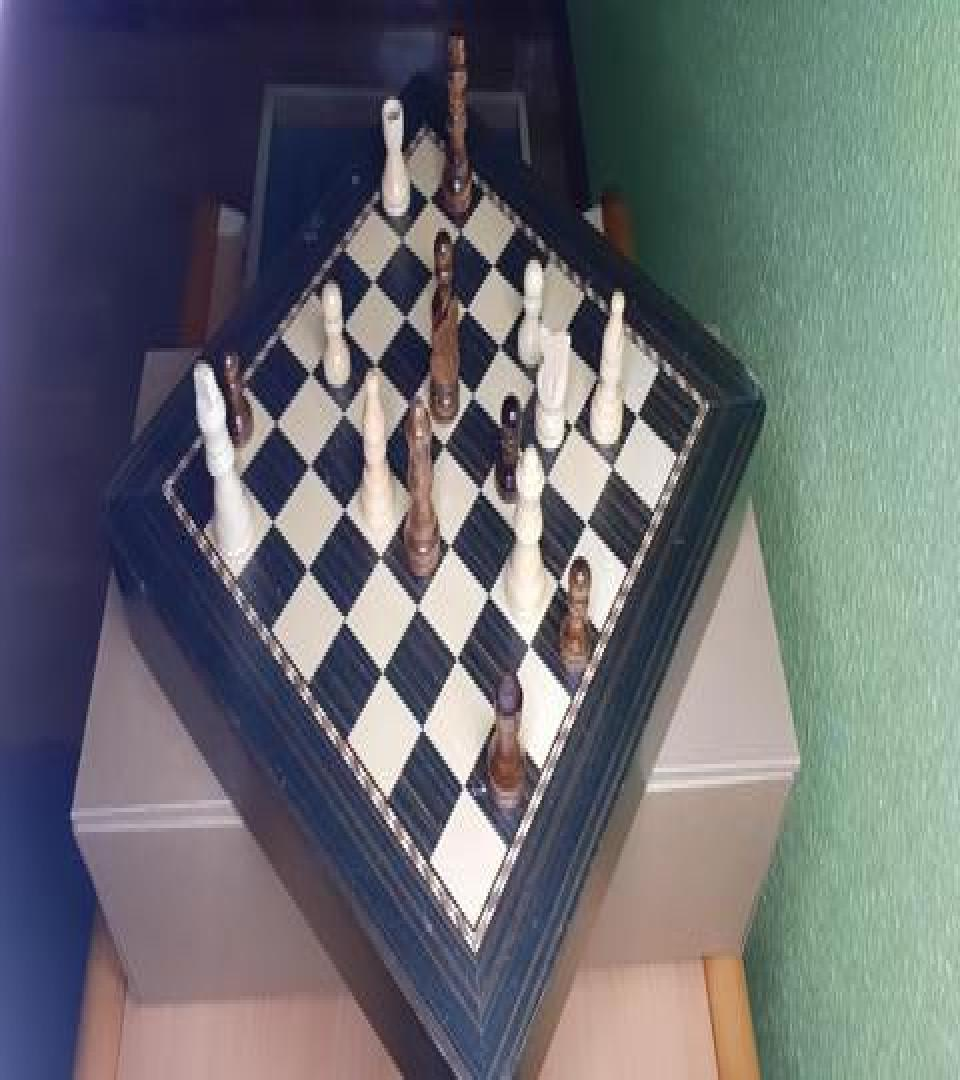xcorner: (423, 182, 435, 206), (395, 224, 407, 248), (366, 266, 378, 290), (335, 312, 347, 336), (303, 360, 315, 384), (269, 412, 281, 436), (232, 466, 244, 490), (454, 216, 466, 240), (427, 258, 439, 282), (398, 304, 410, 328), (368, 352, 380, 376), (336, 402, 348, 426), (302, 456, 314, 480), (265, 512, 277, 536), (487, 250, 499, 274), (461, 296, 473, 320), (432, 342, 444, 366), (402, 392, 414, 416), (370, 446, 382, 470), (336, 502, 348, 526), (300, 562, 312, 586), (522, 288, 534, 312), (495, 334, 507, 358), (467, 384, 479, 408), (438, 436, 450, 460), (406, 492, 418, 516), (372, 552, 384, 576), (337, 614, 349, 638), (558, 326, 570, 350), (532, 374, 544, 398), (504, 426, 516, 450), (475, 482, 487, 506), (444, 540, 456, 564), (411, 602, 423, 626), (375, 668, 387, 692), (596, 366, 608, 390), (570, 418, 582, 442), (543, 472, 555, 496), (514, 530, 526, 554), (483, 590, 495, 614), (451, 656, 463, 680), (416, 726, 428, 750), (635, 408, 647, 432), (610, 462, 622, 486), (584, 518, 596, 542), (555, 580, 567, 604), (525, 644, 537, 668), (493, 714, 505, 738), (458, 788, 470, 812)
